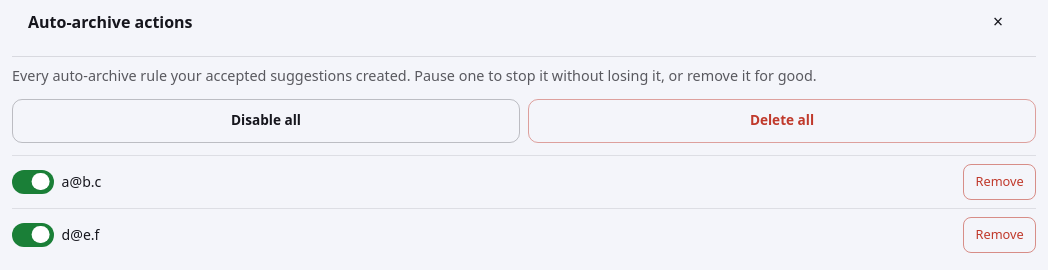
Test: AutomationActionsPanel › delete-all clears every rule
Click the button "Delete all".
click(782, 121)  # box [528, 99, 1036, 143]
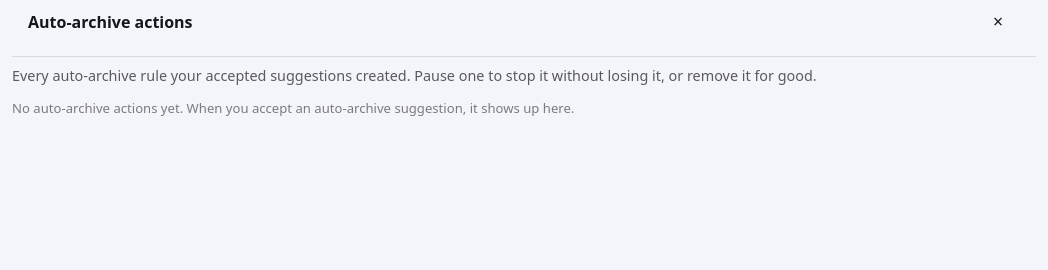
Check: the text "No auto-archive actions yet" is shown, box [12, 99, 574, 117]
